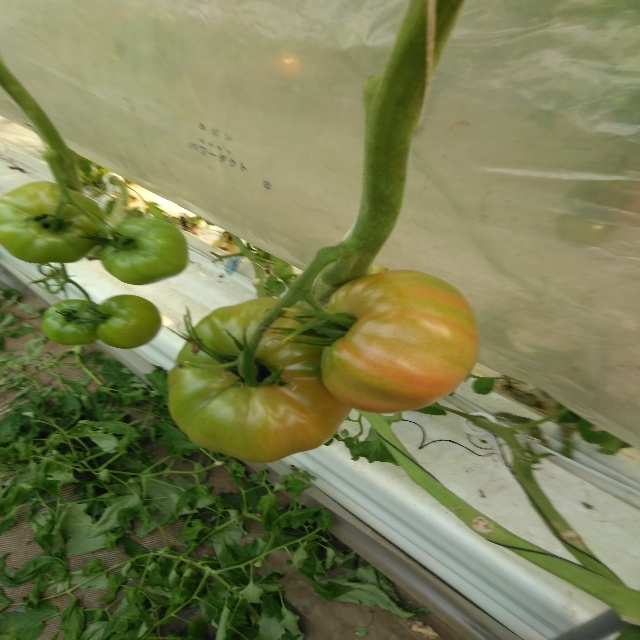b_green: (0, 181, 106, 264), (101, 217, 188, 285), (94, 295, 161, 349), (42, 299, 101, 345)
b_half_ripened: (167, 297, 352, 463), (320, 268, 480, 414)
